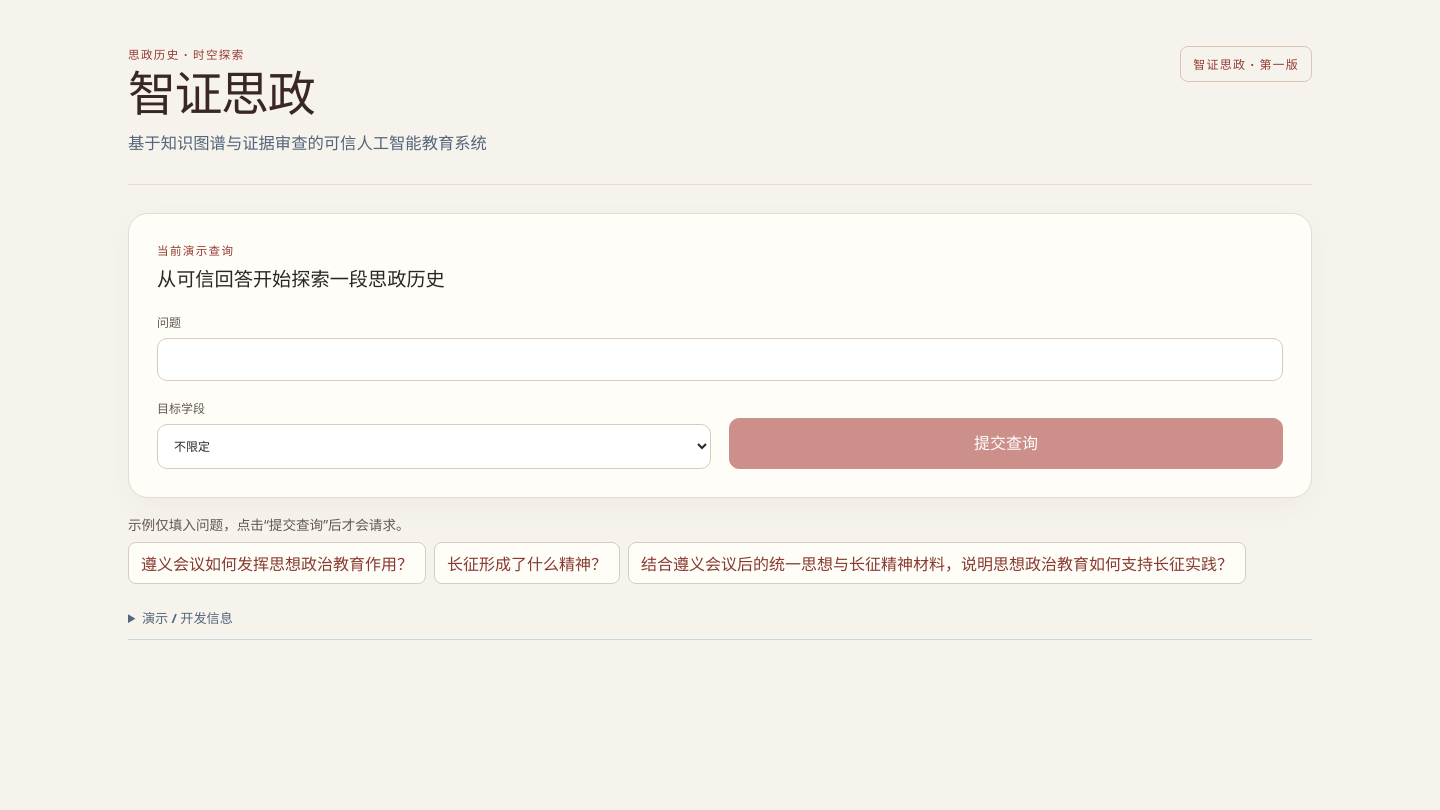
App Shell › shows a transport error for an invalid explicit runtime mode
In the field named "查询问题": (720, 360) [157,338,1283,381], type "测试问题"
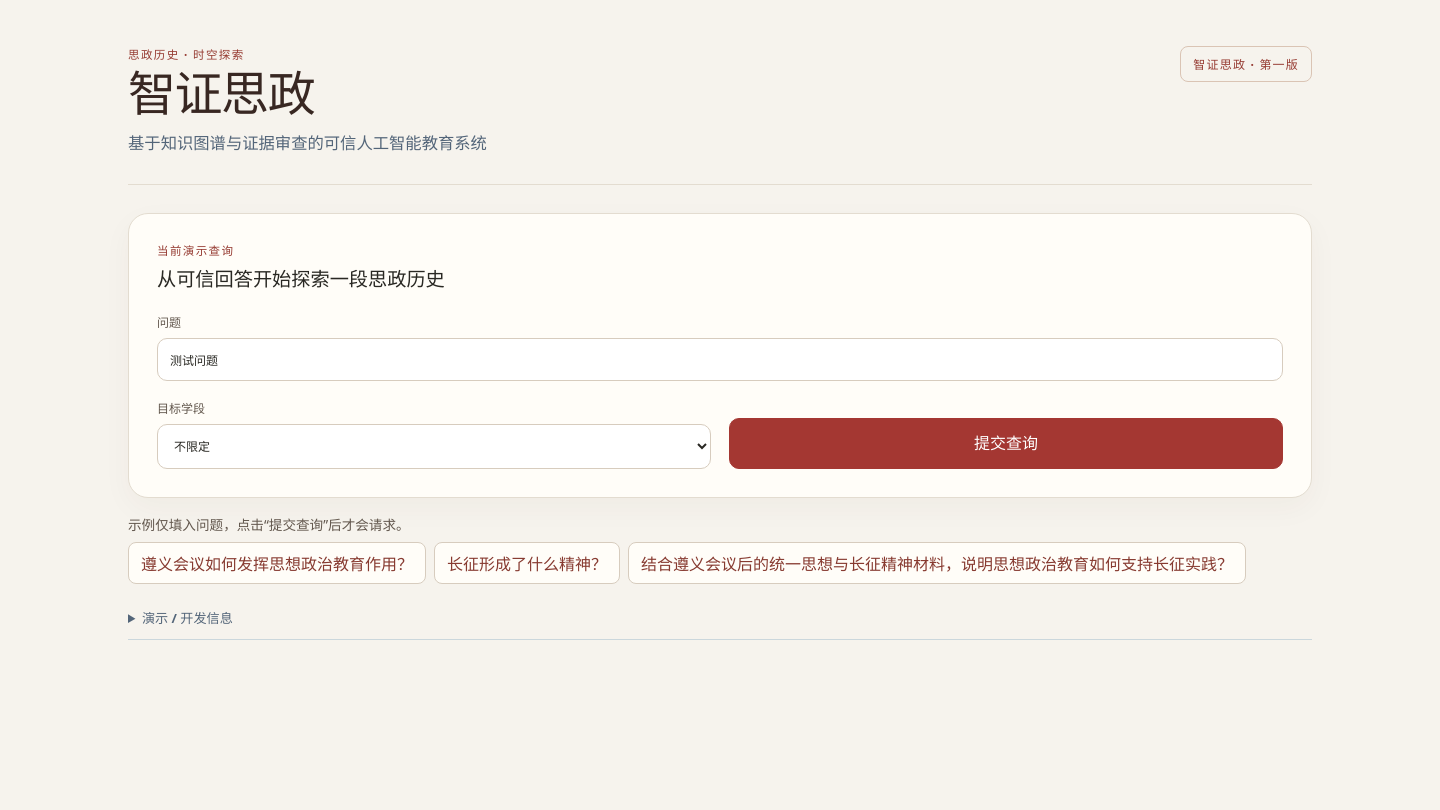
Click the button "提交查询": click(1006, 443) [729,418,1283,469]
(page scrolled)
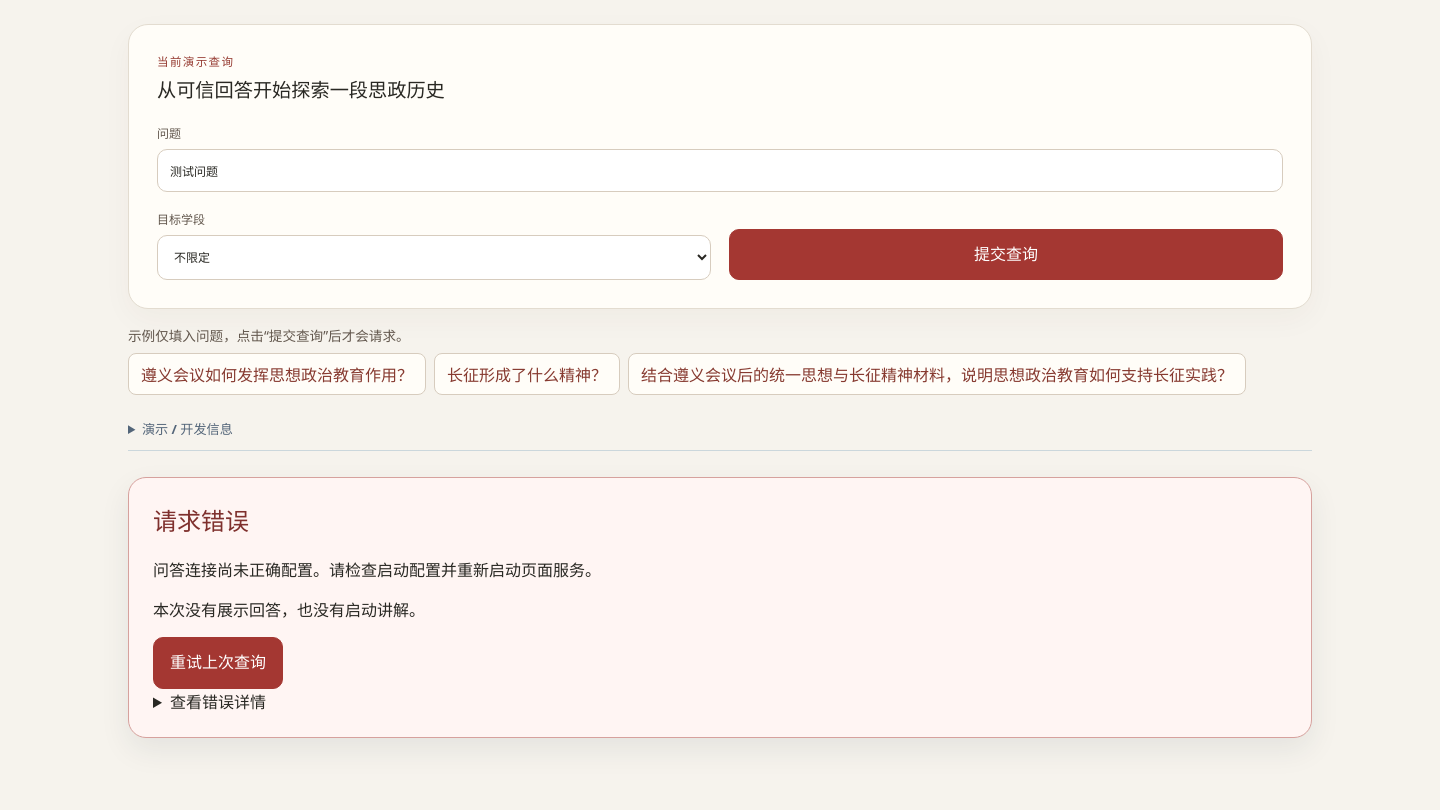
Expected: the message labelled "请求错误" is shown, [128,477,1312,738]
